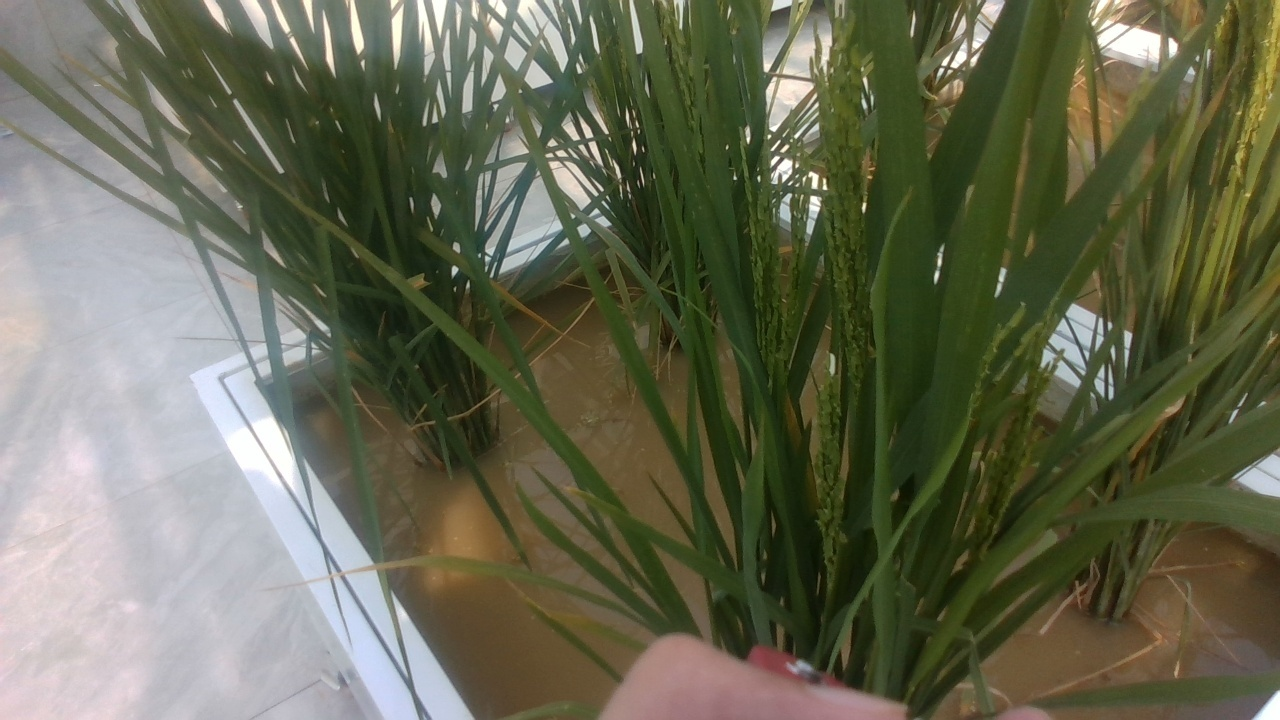panicle: (807, 57, 882, 364), (966, 342, 1070, 531), (737, 131, 779, 342), (804, 382, 849, 567), (785, 134, 814, 258)
